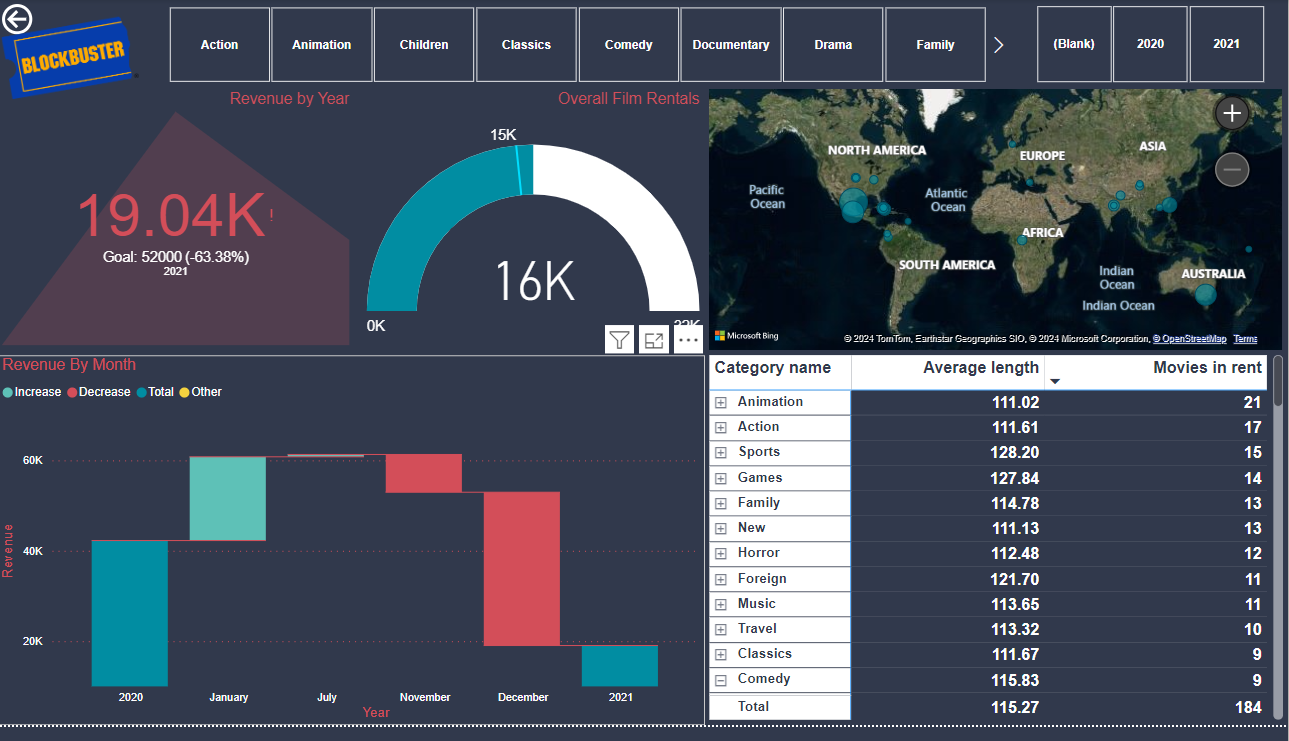

What the dashboard file says about the page in this screenshot:
{"tool":"powerbi","page":{"name":"Main Dashboard","canvas":[1280,720],"ordinal":0},"visuals":[{"type":"actionButton","box":[0,0,100,40],"z":500},{"type":"image","box":[0,0,145.5,117.4],"z":750},{"type":"slicer","title":"Year","fields":{"Values":["dim_date.full_date.Variation.Date Hierarchy.Year"]},"box":[1004.8,0,275,89.2],"z":1000},{"type":"slicer","title":"Film Category","fields":{"Values":["dim_film.category_name"]},"box":[145.5,1.2,859.4,88],"z":2000},{"type":"pivotTable","fields":{"Rows":["dim_film.category_name","dim_film.title"],"Values":["Avg(dim_film.length)","fact_rental.MoviesInRental"]},"box":[701.7,348.4,578.2,371.6],"z":7000},{"type":"waterfallChart","title":"Revenue By Month","fields":{"Y":["fact_rental.Revenue"],"Category":["dim_date.full_date.Variation.Date Hierarchy.Year"],"Breakdown":["dim_date.full_date.Variation.Date Hierarchy.Month"]},"box":[0,353.3,701.7,366.7],"z":7312},{"type":"map","title":"Revenue By Country","fields":{"Category":["dim_customer.country","dim_customer.city"],"Size":["fact_rental.Revenue"]},"box":[701.7,84.3,578.2,268.9],"z":7625},{"type":"gauge","title":"Overall Film Rentals","fields":{"Y":["fact_rental.TotalRentals"],"TargetValue":["fact_rental.Target Rental"]},"box":[361.8,89.2,339.8,259.2],"z":8250},{"type":"kpi","title":"Revenue by Year","fields":{"Indicator":["fact_rental.Revenue"],"TrendLine":["dim_date.full_date.Variation.Date Hierarchy.Year"],"Goal":["fact_rental.Target Revenue"]},"box":[0,89.2,354.5,259.2],"z":8500}]}

Visuals, with their boxes in screenshot pixels (x1, y1, x2, y2), scaled from the page's 1280x720 canvas onto the 1289x741 screenshot:
actionButton: [x1=0, y1=0, x2=101, y2=41]
image: [x1=0, y1=0, x2=147, y2=121]
"Year" slicer: [x1=1012, y1=0, x2=1288, y2=92]
"Film Category" slicer: [x1=147, y1=1, x2=1012, y2=92]
pivotTable - dim_film.category_name x dim_film.title: [x1=707, y1=359, x2=1288, y2=740]
"Revenue By Month" waterfallChart: [x1=0, y1=364, x2=707, y2=740]
"Revenue By Country" map: [x1=707, y1=87, x2=1288, y2=364]
"Overall Film Rentals" gauge: [x1=364, y1=92, x2=707, y2=359]
"Revenue by Year" kpi: [x1=0, y1=92, x2=357, y2=359]
